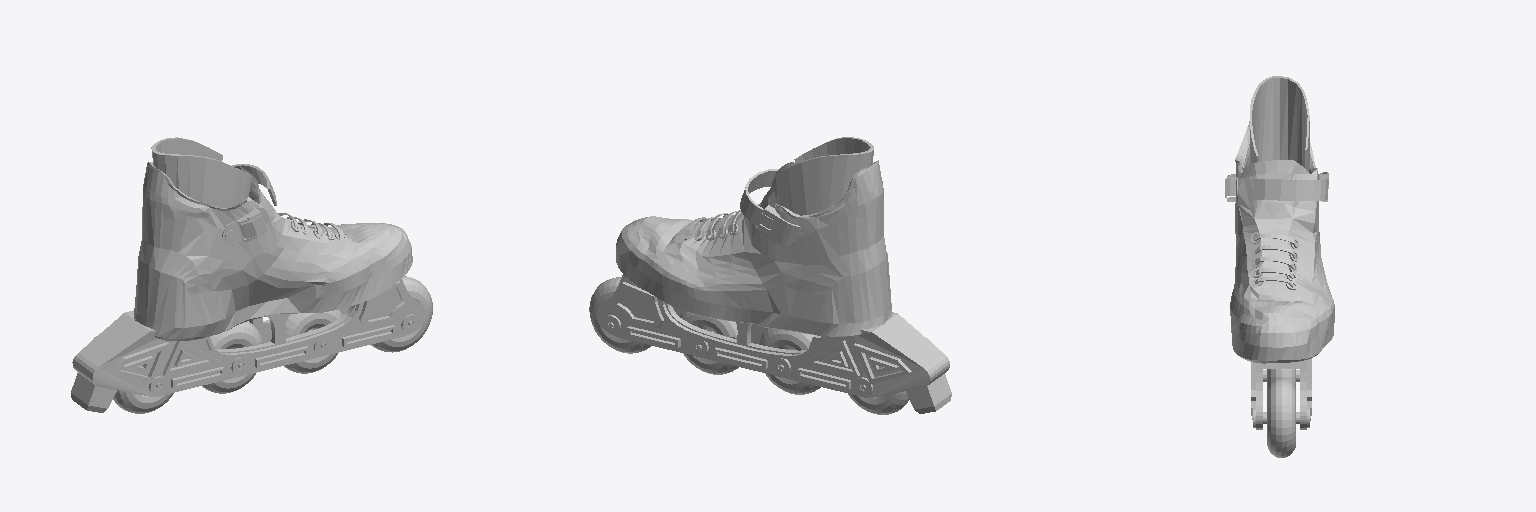
File: Roller.obj
The picture shows the model from 3 angles: view 1: azimuth 30°, elevation 25°; view 2: azimuth 150°, elevation 25°; view 3: azimuth 270°, elevation 25°; orthographic projection.
Parts seen in each view (by area): view 1: (null); view 2: (null); view 3: (null).
Part boxes in pixels (x1,y1,x2,y2): (null): (71,137,432,413); (null): (589,137,951,414); (null): (1225,76,1334,457).
Bounding box in the file's own units: 17.91 × 12.61 × 4.82.